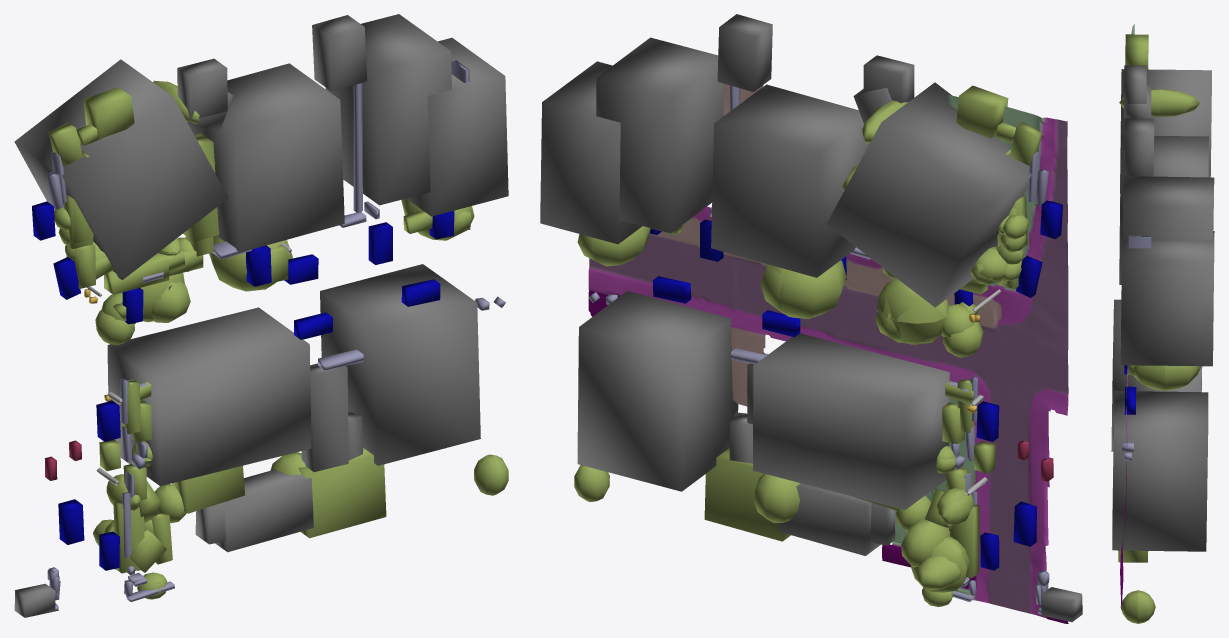
The model's file is medium_334.glb.
The picture shows the model from 3 angles, left to right: view 1: azimuth 30°, elevation 25°; view 2: azimuth 150°, elevation 25°; view 3: azimuth 270°, elevation 25°; orthographic projection. The views are drawn at different scales.
Size of the model in its own units: 65.93 by 67.79 by 13.98.
